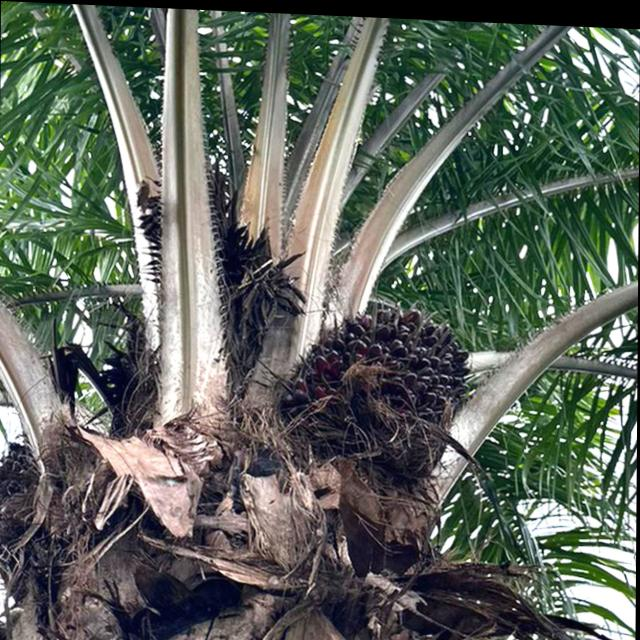almost: (264, 288, 479, 490)
